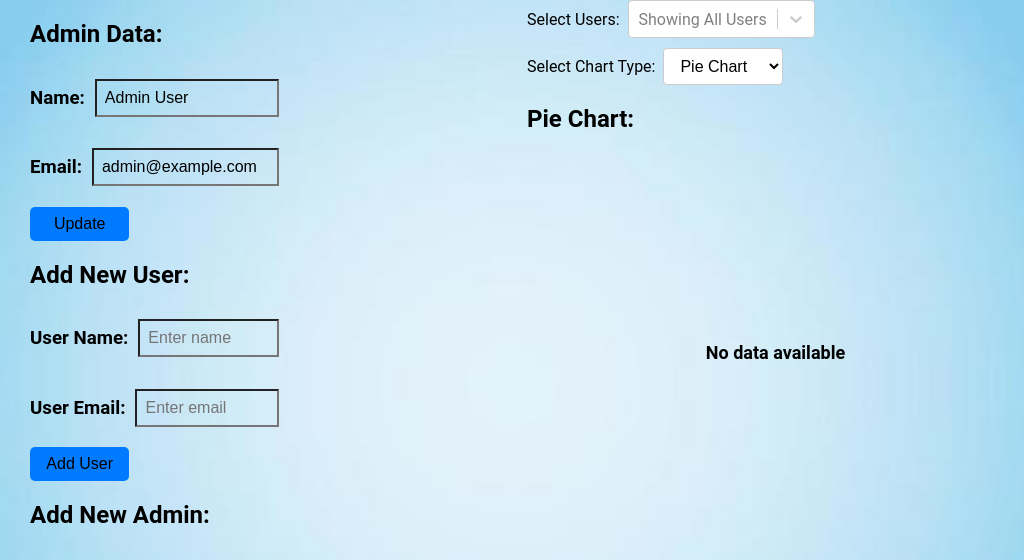
AdminProfile Component › should display error message for invalid new user email format
The width and height of the screenshot is (1024, 560).
In the field with test id "new-user-email": (207, 408) [136, 389, 278, 427], type "invalid-email"
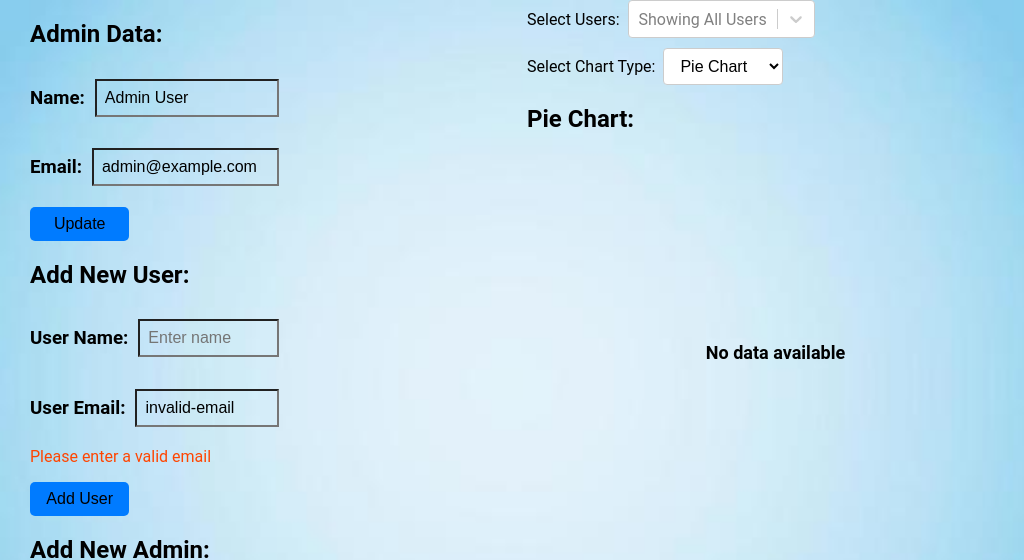
Check: the text "Please enter a valid email" is shown, box [30, 447, 211, 466]
